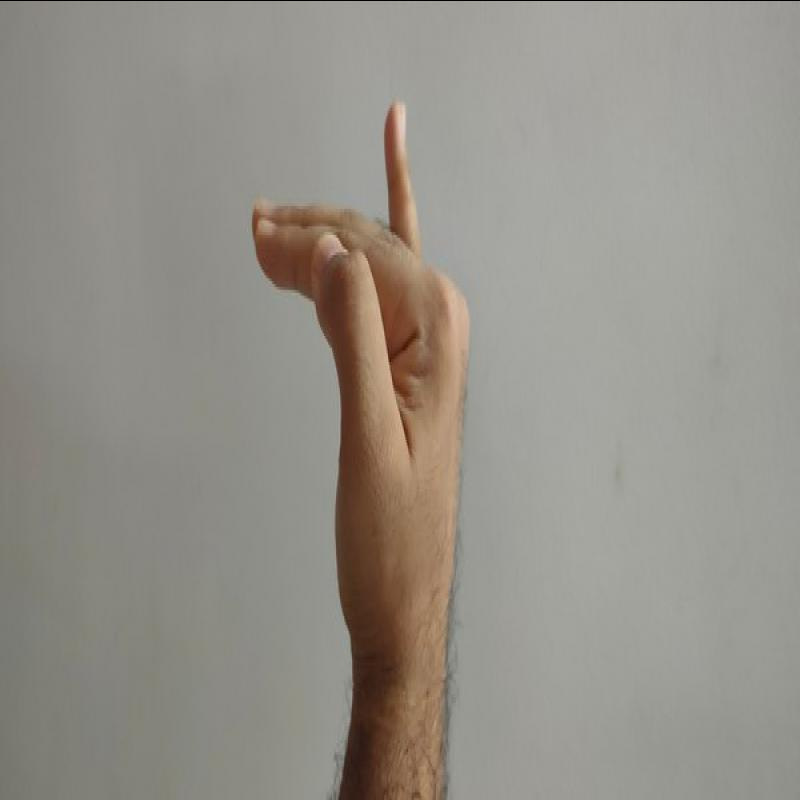Kartharee Mukham: (230, 87, 498, 654)
